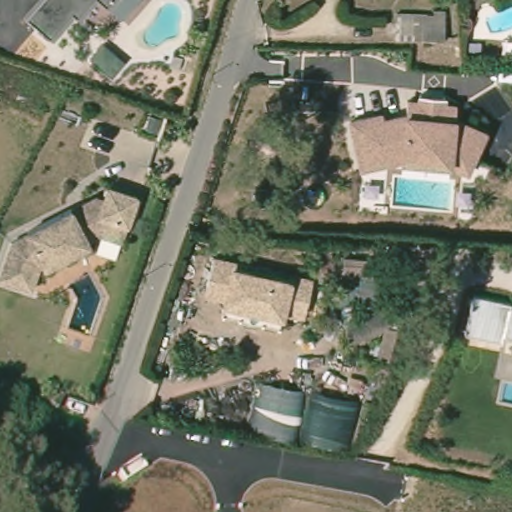pool: (387, 168, 459, 217), (137, 1, 190, 50), (480, 1, 512, 36), (499, 380, 512, 405)
